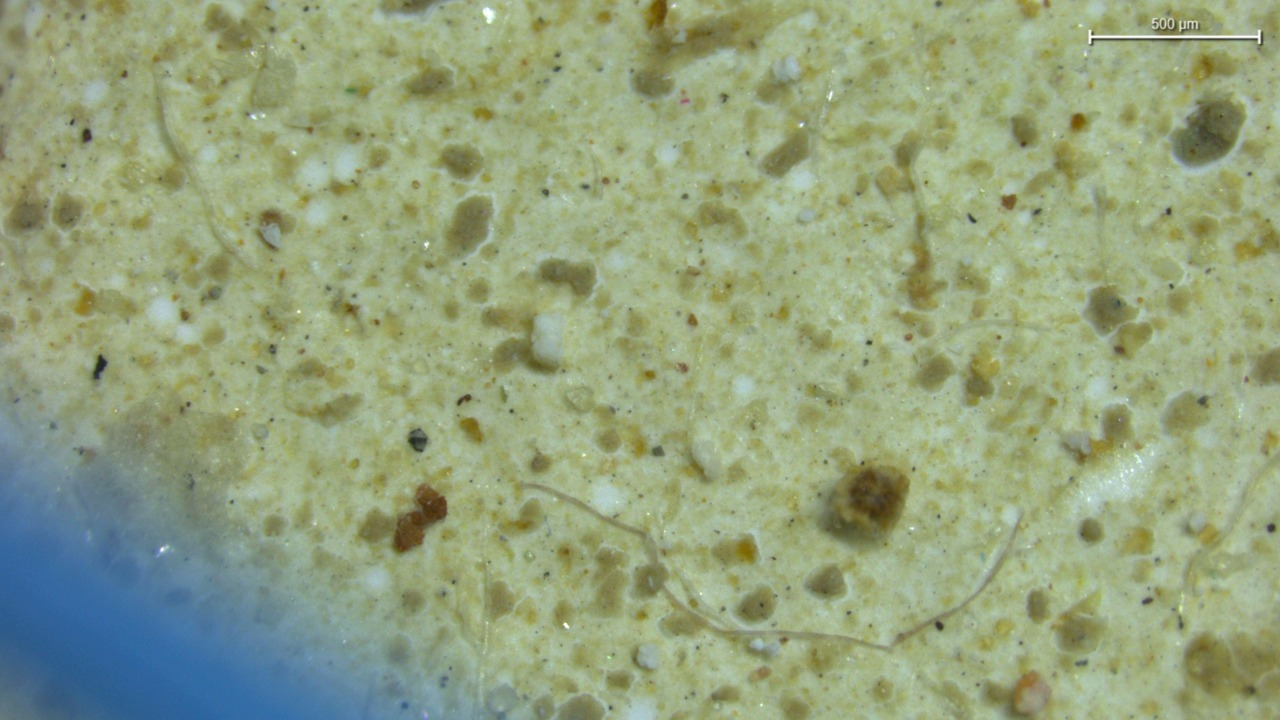microplastic_fragment: (530, 313, 563, 369), (692, 440, 721, 480), (634, 644, 660, 670), (261, 222, 281, 249)
